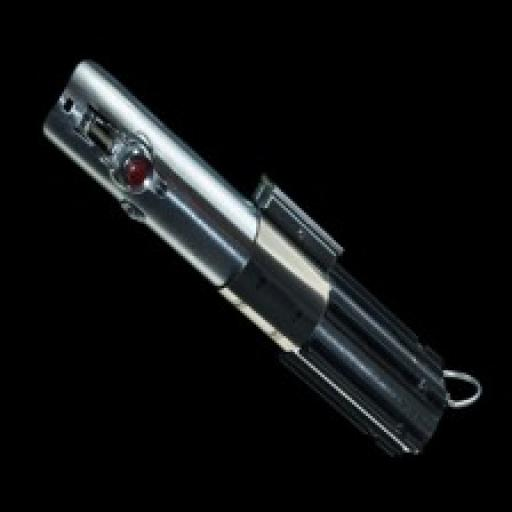lightsaber: (39, 52, 473, 461)
